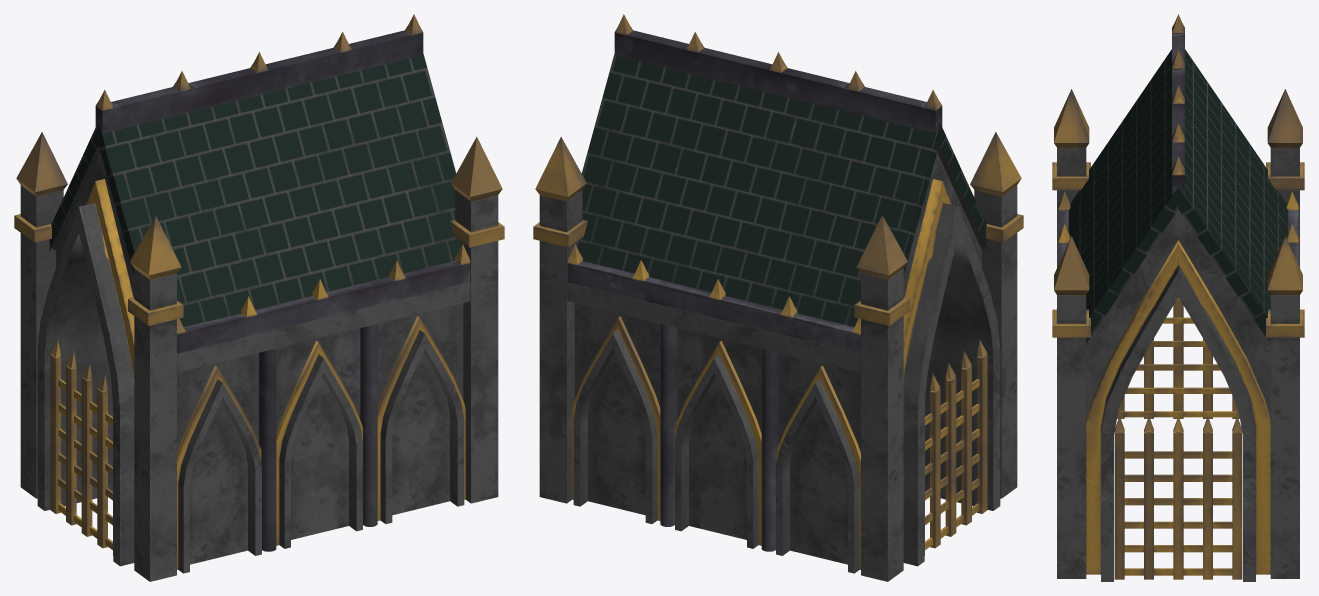
Rendered from Mausoleum.fbx.
3 renders of one model, left to right at view 1: azimuth 30°, elevation 25°; view 2: azimuth 150°, elevation 25°; view 3: azimuth 270°, elevation 25°, orthographic. The views are drawn at different scales.
Parts seen in each view (by area): view 1: Cube.005; view 2: Cube.005; view 3: Cube.005.
Part boxes in pixels (x1,y1,x2,y2): Cube.005: [14, 14, 504, 581]; Cube.005: [533, 14, 1023, 581]; Cube.005: [1052, 14, 1304, 581].
Size of the model in its own units: 607 by 708 by 390.
